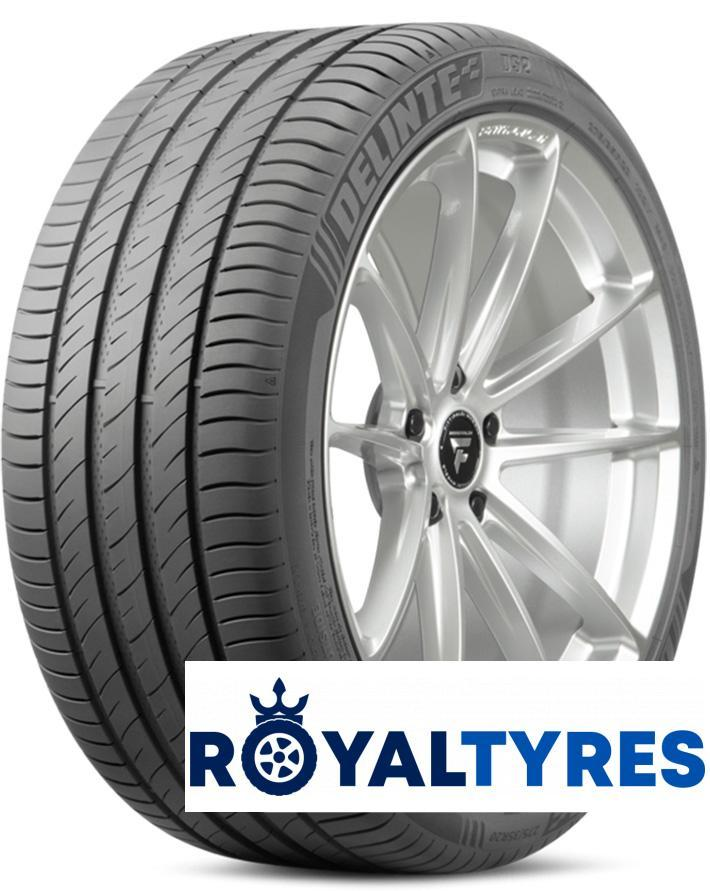objects: (185, 661, 710, 813)
